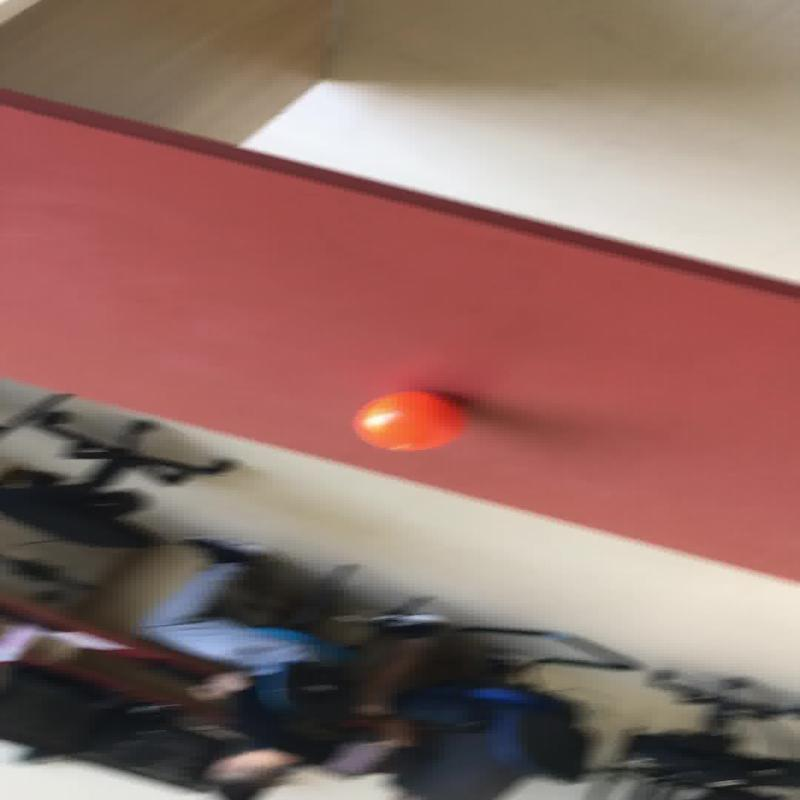orange: (351, 389, 464, 452)
